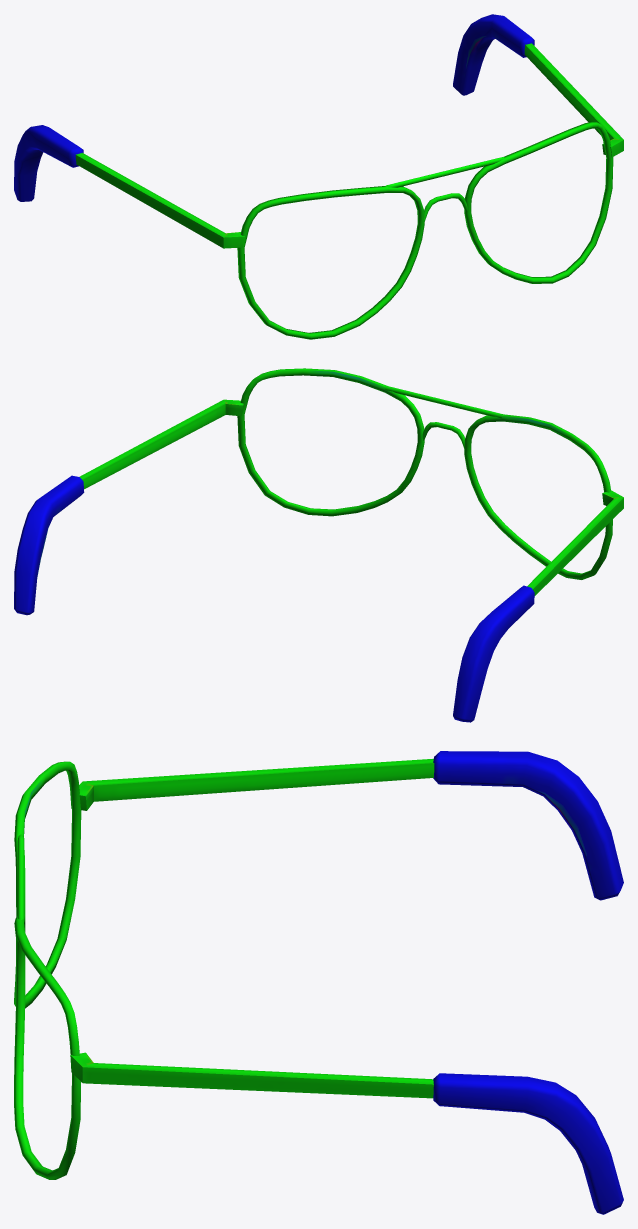
The model's file is Face_Pilot_Lensless.obj.
3 views of the same model, one above another, from view 1: azimuth 30°, elevation 25°; view 2: azimuth 150°, elevation 25°; view 3: azimuth 270°, elevation 25° (orthographic). The views are drawn at different scales.
Visible parts, largest first — view 1: Face_Pilot_Lensless_0; view 2: Face_Pilot_Lensless_0; view 3: Face_Pilot_Lensless_0.
Part boxes in pixels (<box>): Face_Pilot_Lensless_0: <box>14,14,623,339</box>; Face_Pilot_Lensless_0: <box>14,368,623,722</box>; Face_Pilot_Lensless_0: <box>14,751,623,1214</box>.
Size of the model in its own units: 0.1931 by 0.0568 by 0.1475.
Materials: 1 (1 with a texture image).
